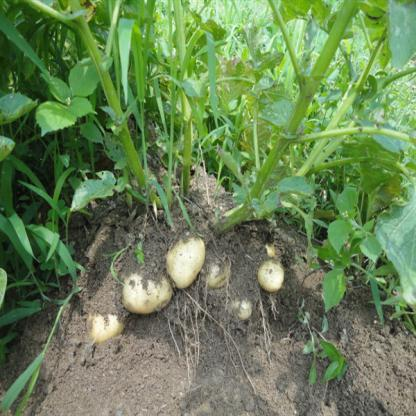potato: (160, 224, 224, 312), (105, 268, 191, 332), (252, 243, 304, 301), (82, 312, 132, 352)
